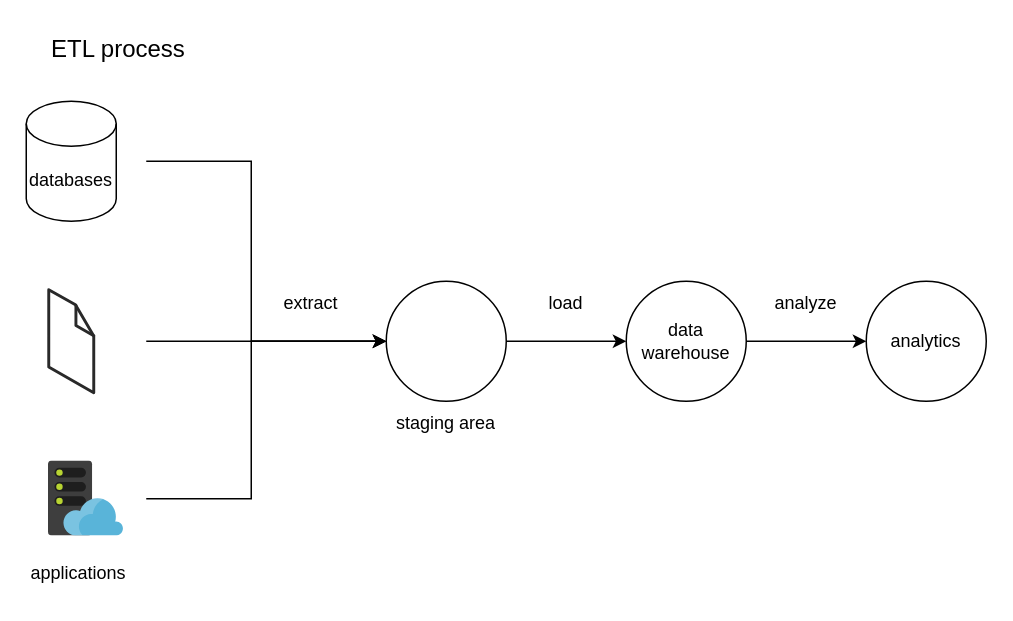
Image size: 1013x621. Some labels were removed from this diagram. The shapes that lost their labels are listed below. From the top down, each one's centre as x and y in pixels, then its label:
[70,340]: files
[445,340]: transform
